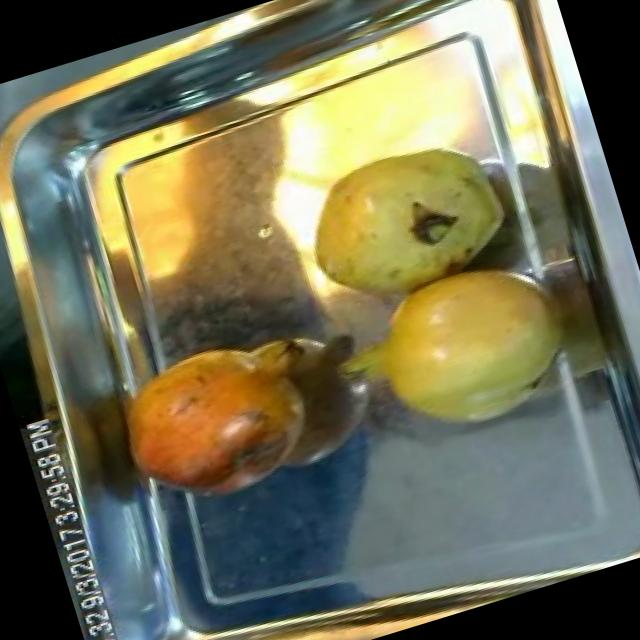fruit: (332, 236, 597, 468), (92, 310, 339, 528), (274, 114, 526, 324)
